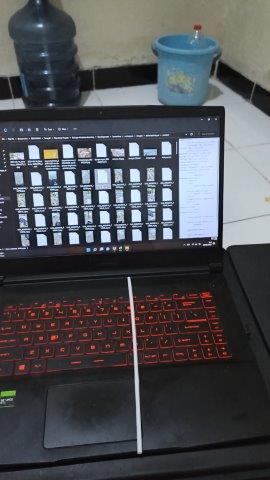sedotan: (127, 277, 142, 453)
